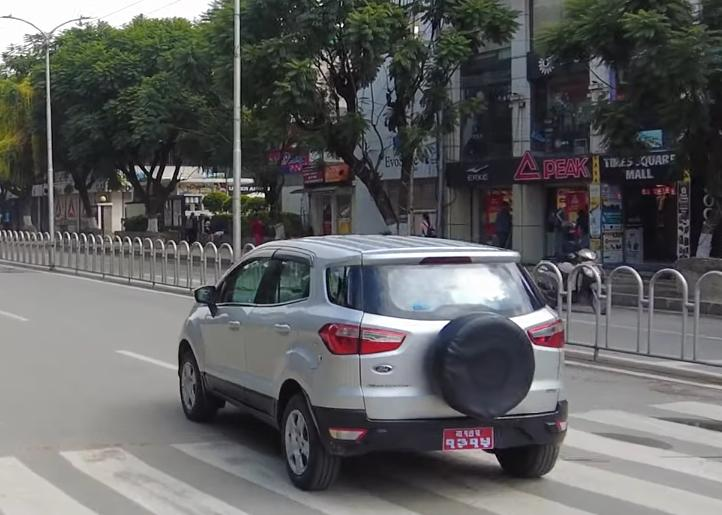car: (161, 223, 573, 486)
